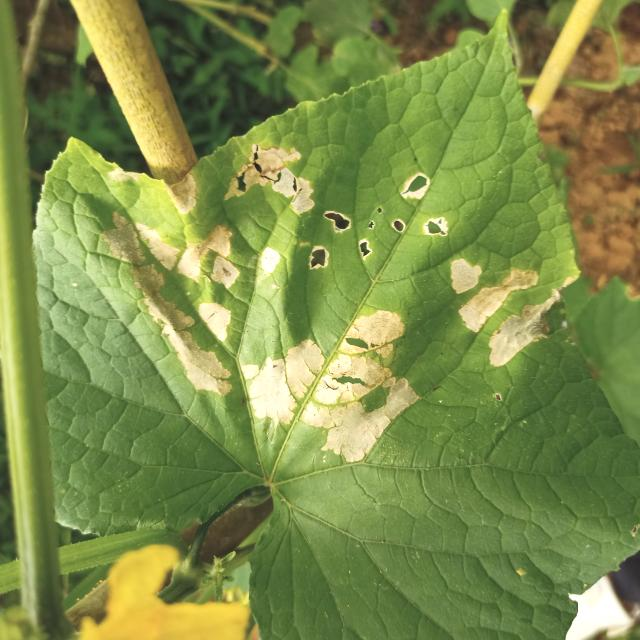disease_cucumber: (100, 143, 576, 462)
